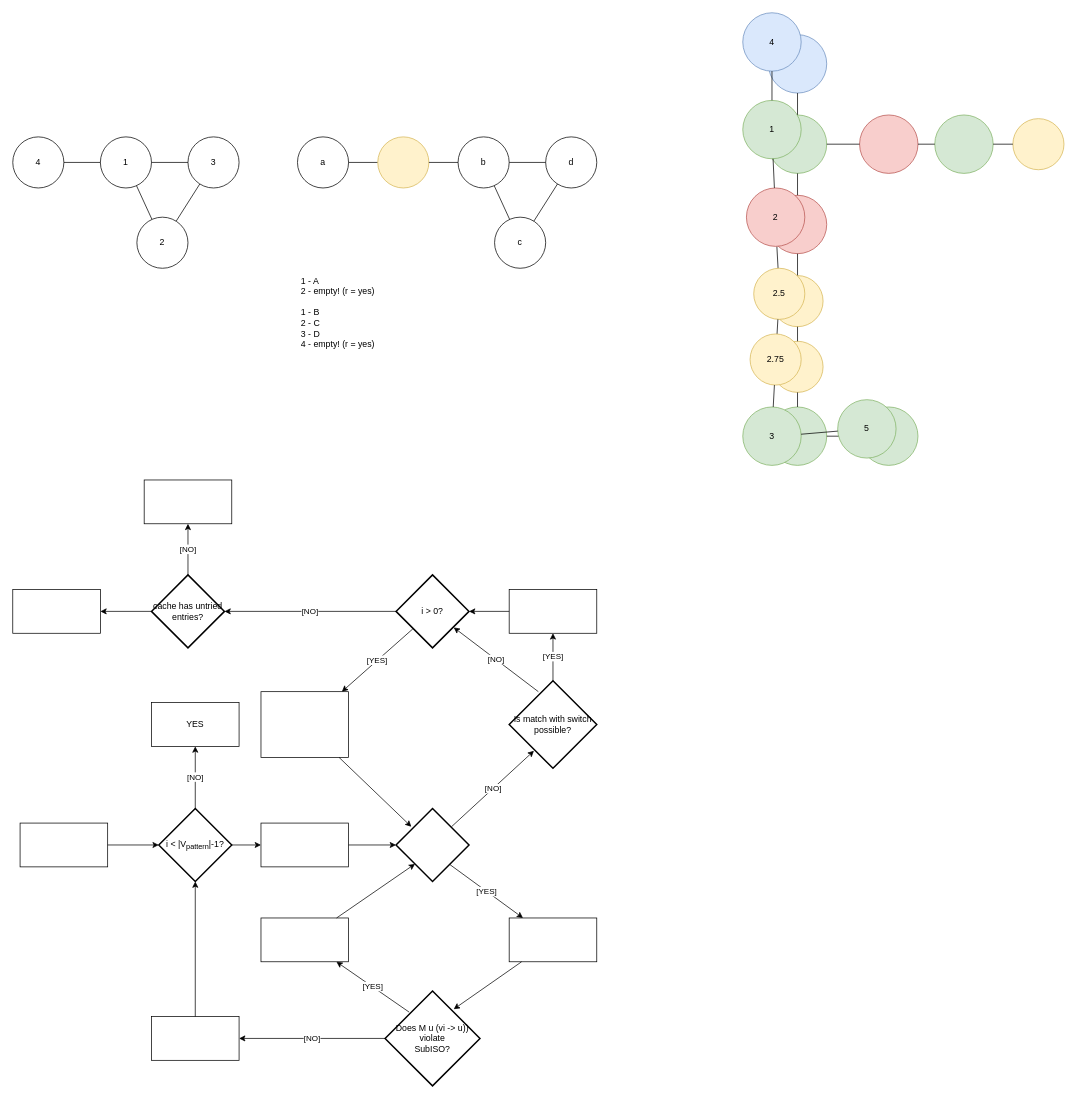
Image size: 1077x1099. Some labels were removed from this diagram. The centre of each missing label's shape, as x and y in pixels:
Add routing switch to deepest cache state: [56,611]
cache(i) := cache(i) union (M): [552,611]
D(v) := V 2 i := i-1 D(vi) := D(vi) \ M(vi) M := M \ (vi, M(vi)): [304,724]
D(vi) := D(vi) \ u: [304,939]
i := -1 M := empty D(v) = V2: [63,844]
i := i + 1: [304,844]
M := M u (vi -> u): [195,1038]
NO: [187,501]
u := first(D(vi)): [552,939]
|D(v i )| > 0?: [432,844]
